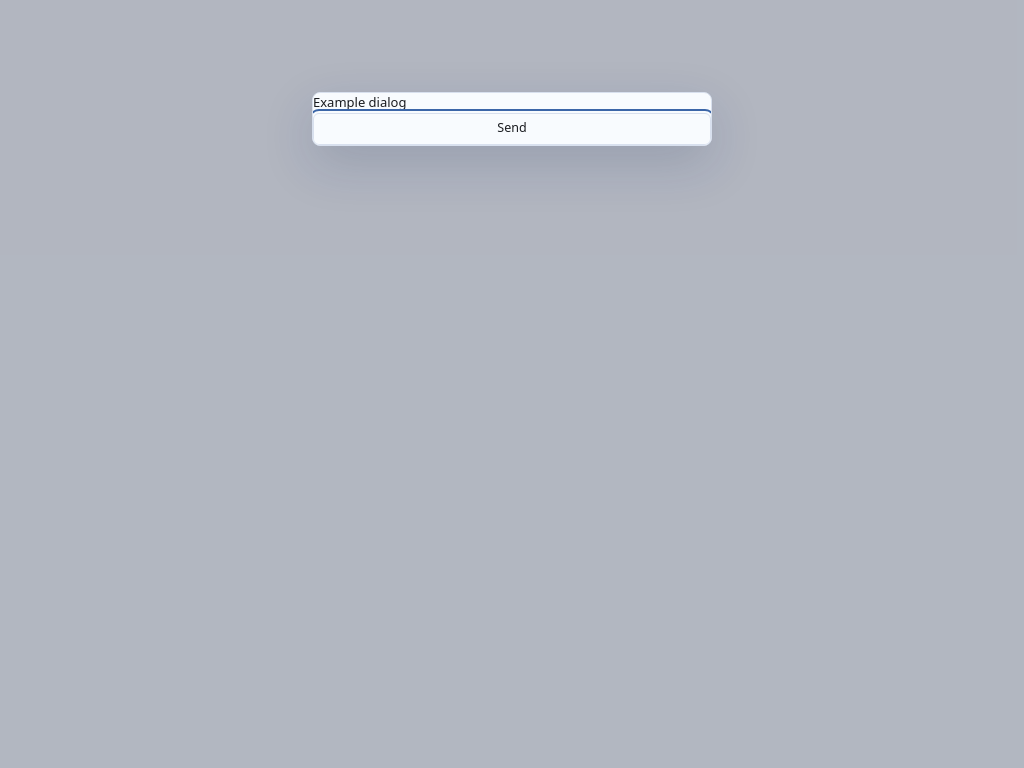
Scenario: shows over an open dialog, and is dismissed there without closing the dialog
Later steps or results of the test are not shown.
Click the button "Send": (512, 129) [313,113,711,145]
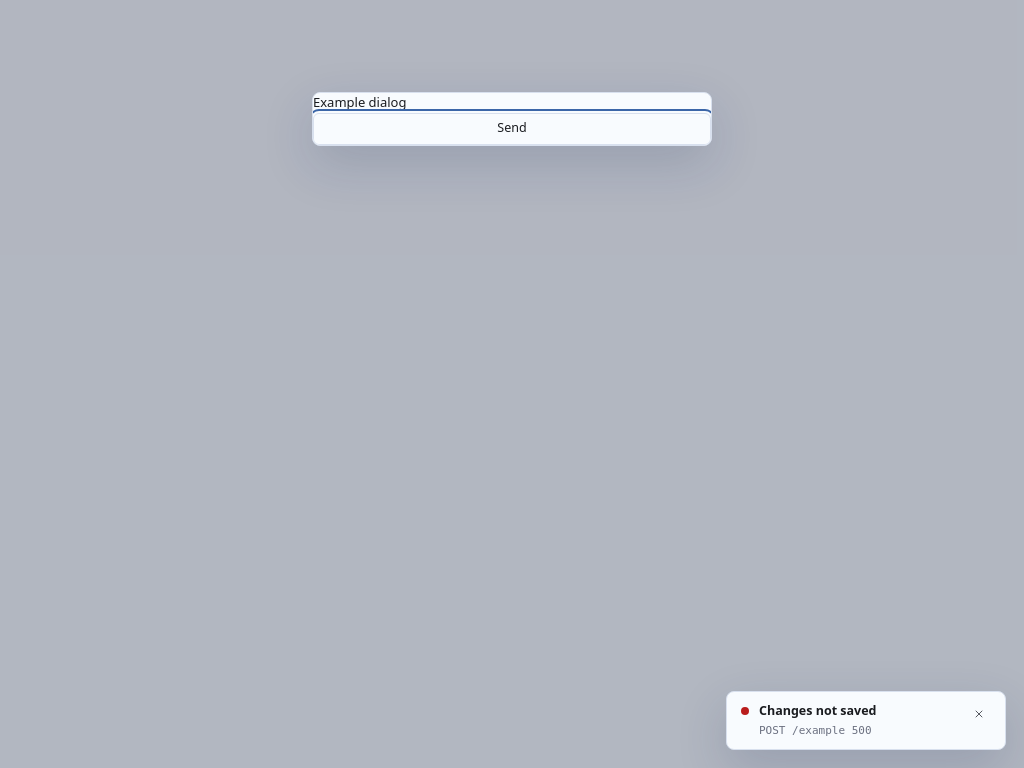
Expected: the dialog "Changes not saved POST /example 500" is shown, [726,691,1006,750]
